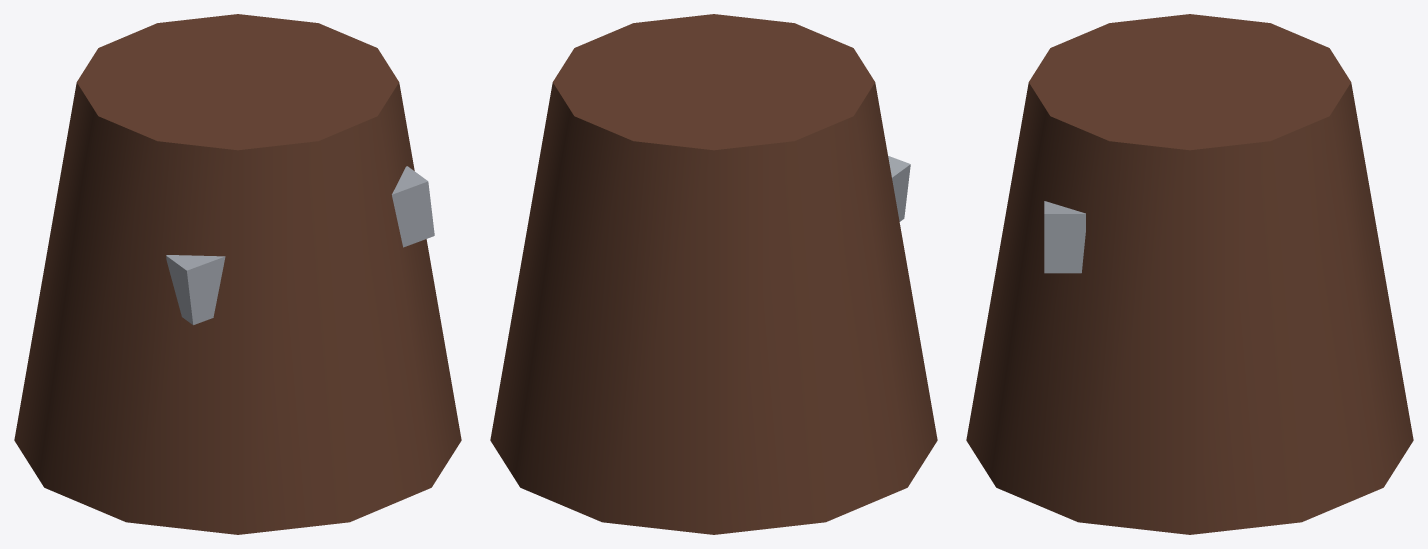
Rendered from blacksmith_outfit.glb.
The picture shows the model from 3 angles, left to right: view 1: azimuth 30°, elevation 25°; view 2: azimuth 150°, elevation 25°; view 3: azimuth 270°, elevation 25°; orthographic projection.
Parts seen in each view (by area): view 1: outfit_torso, outfit_trim; view 2: outfit_torso, outfit_trim; view 3: outfit_torso, outfit_trim.
Boxes of the visible parts, x1,y1,x2,y2 form: outfit_torso: (14, 14, 461, 534); outfit_trim: (166, 166, 434, 325); outfit_torso: (490, 14, 937, 534); outfit_trim: (888, 156, 910, 221); outfit_torso: (966, 14, 1413, 534); outfit_trim: (1044, 201, 1085, 273).
Size of the model in its own units: 0.86 by 0.76 by 0.86.
